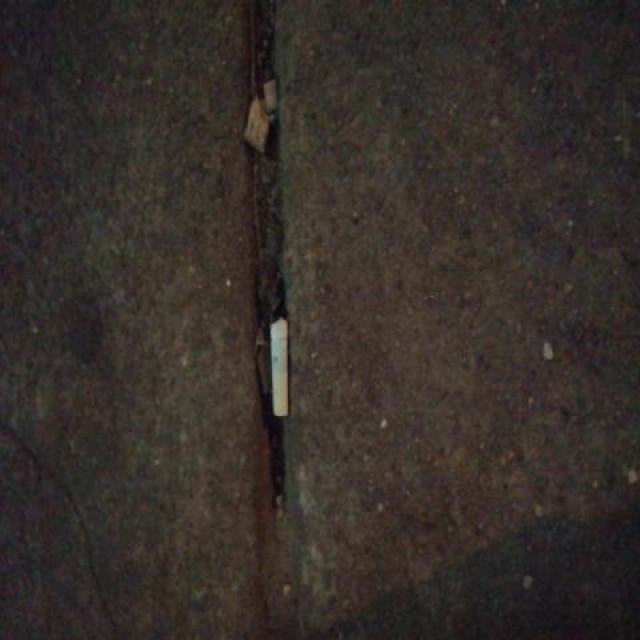non-organic waste: (267, 313, 293, 423)
